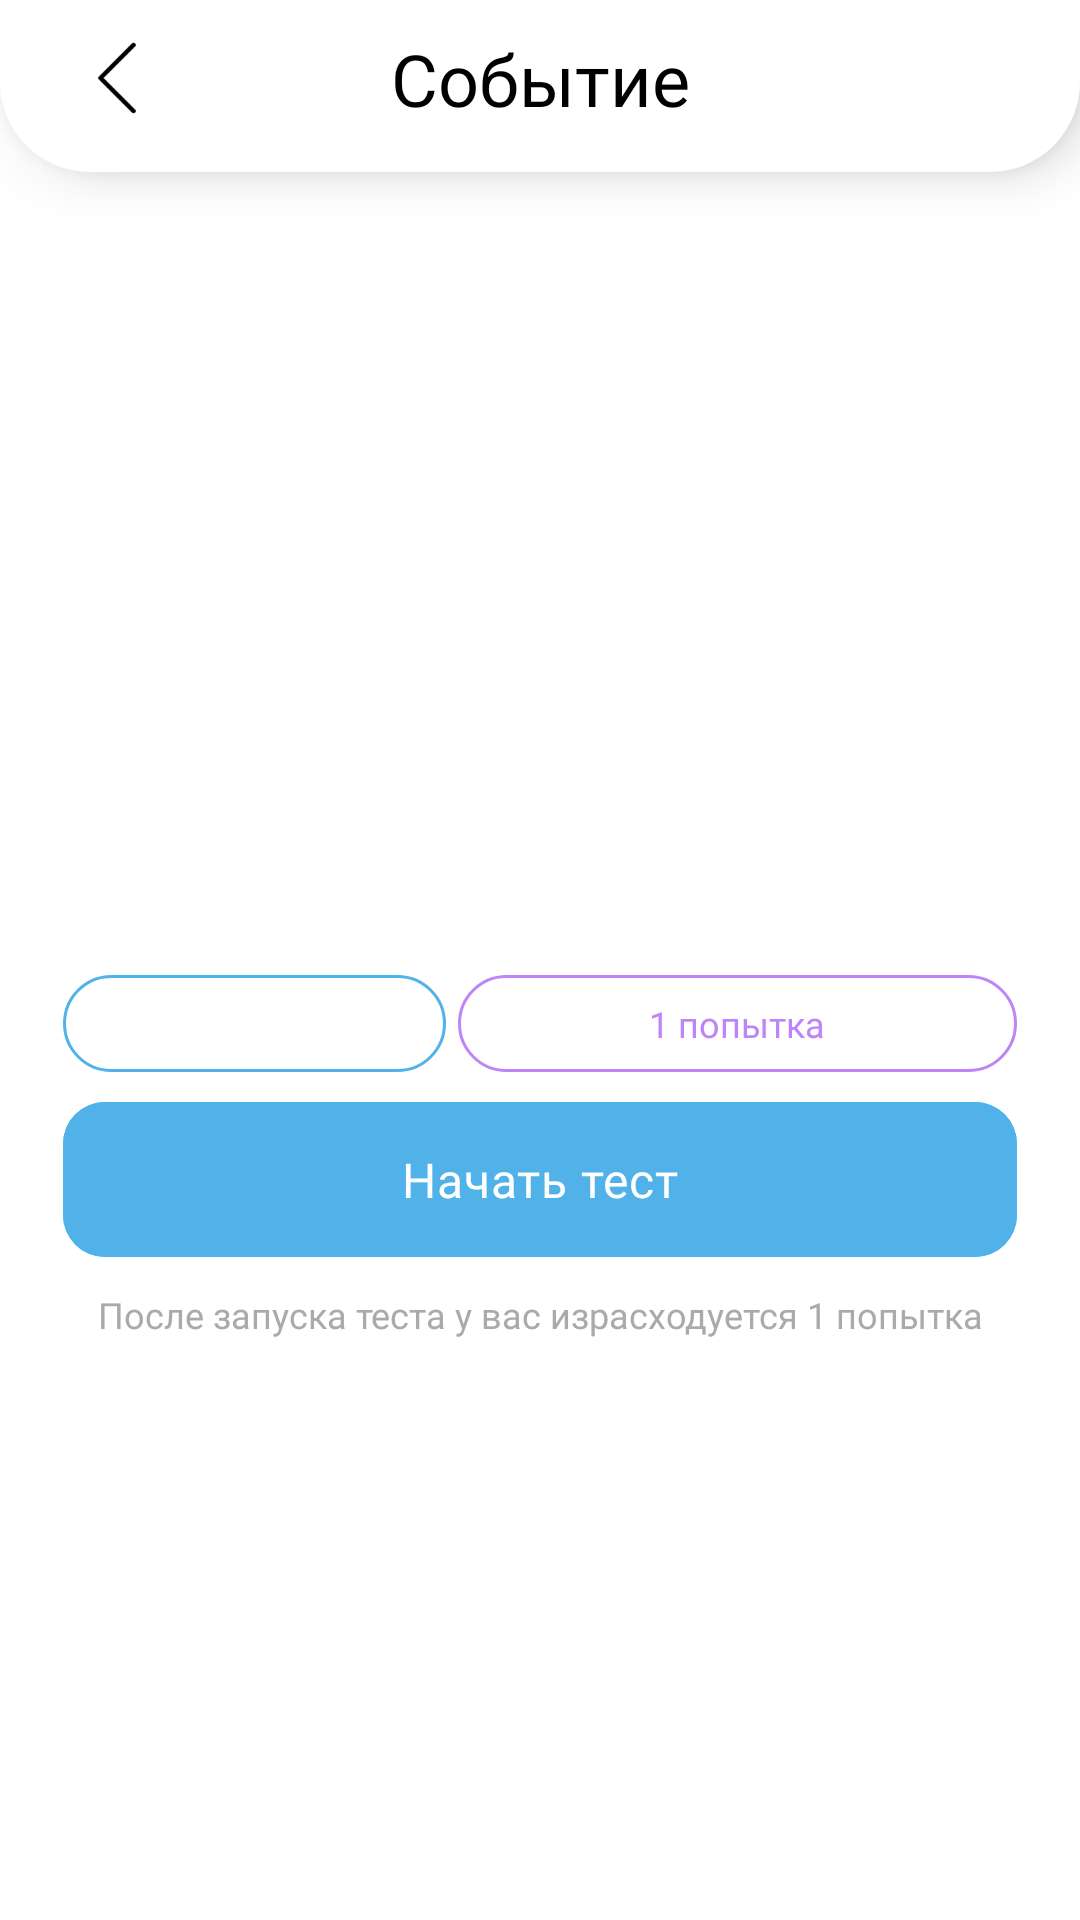

Named icons in this screenshot (1080 x 1920) and their bounding boxes, (x1, y1, x2, y2):
arrow left: (98, 42, 136, 114)
